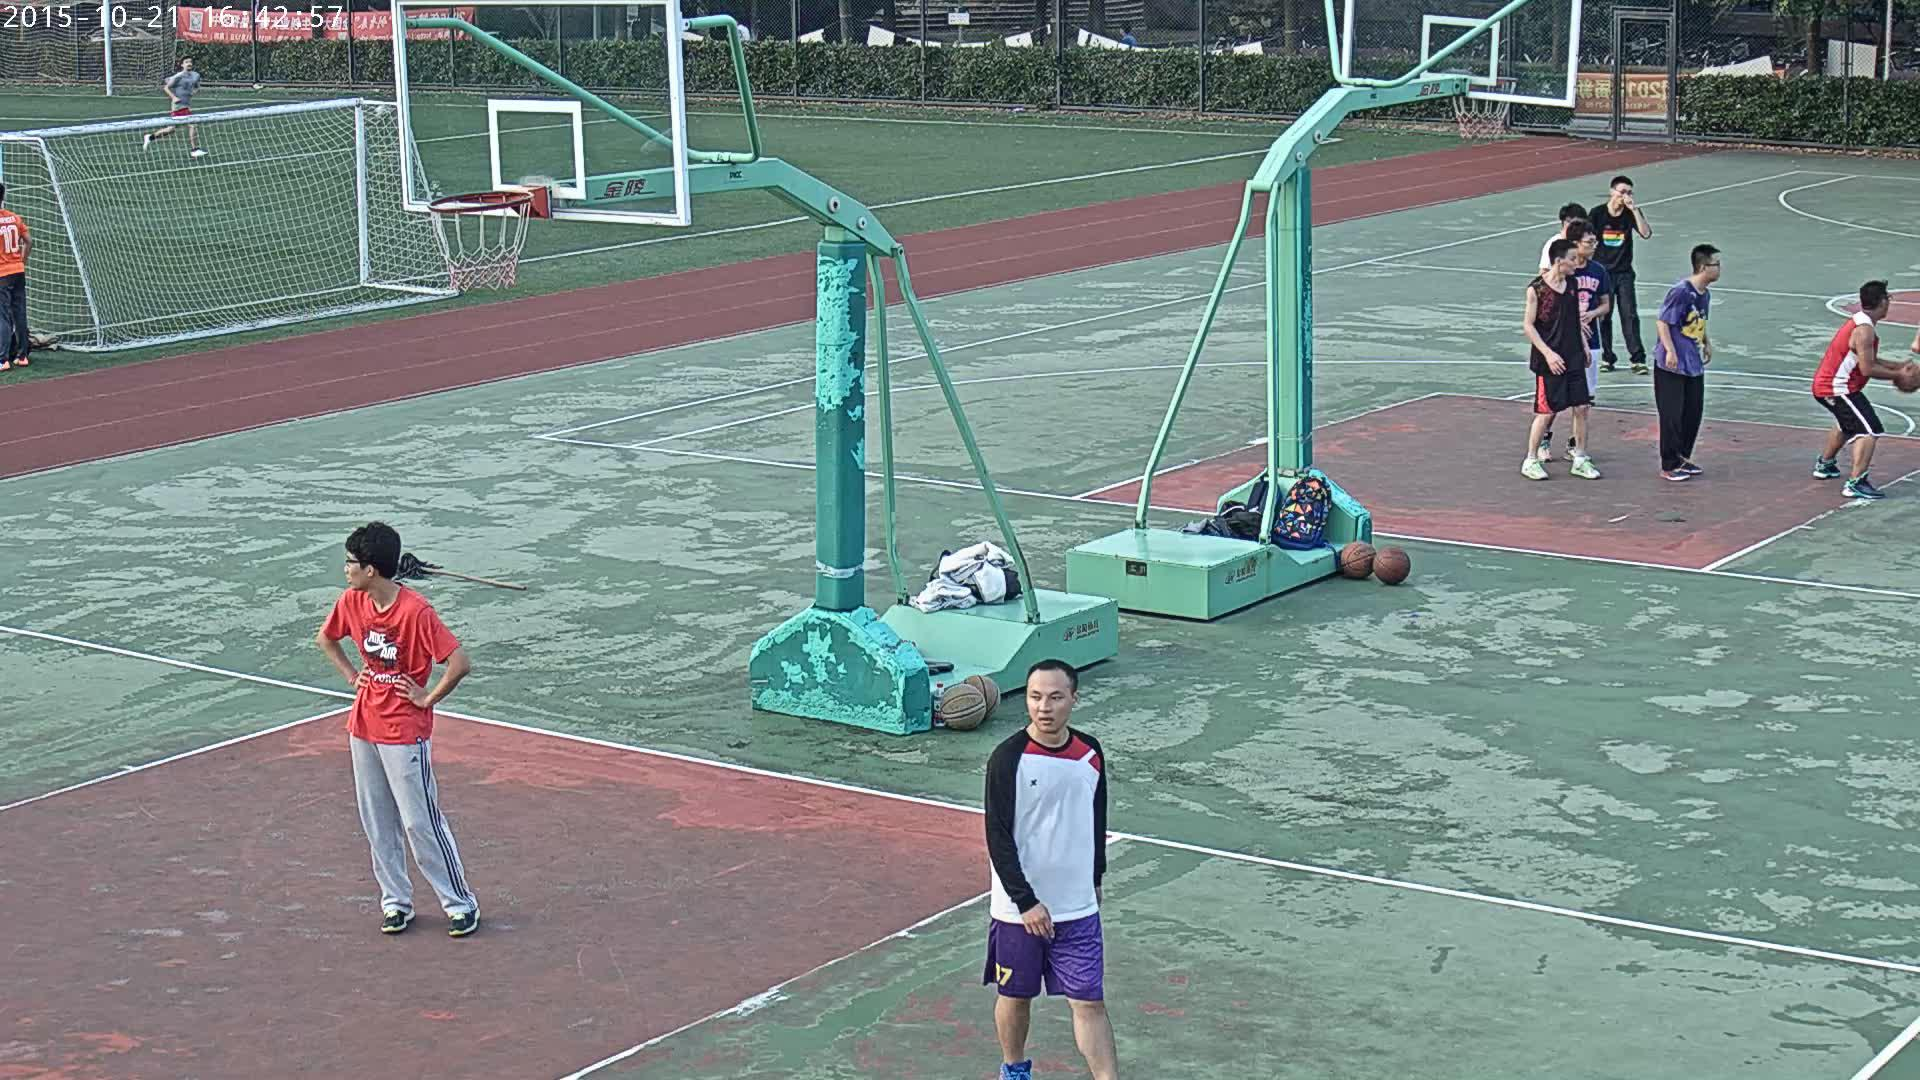person: (315, 521, 482, 938), (980, 658, 1122, 1080), (1810, 278, 1920, 498), (1526, 220, 1610, 461), (1520, 238, 1602, 479), (1653, 243, 1721, 481), (1587, 174, 1651, 374), (142, 54, 208, 157), (0, 182, 33, 371), (1117, 22, 1137, 46)
